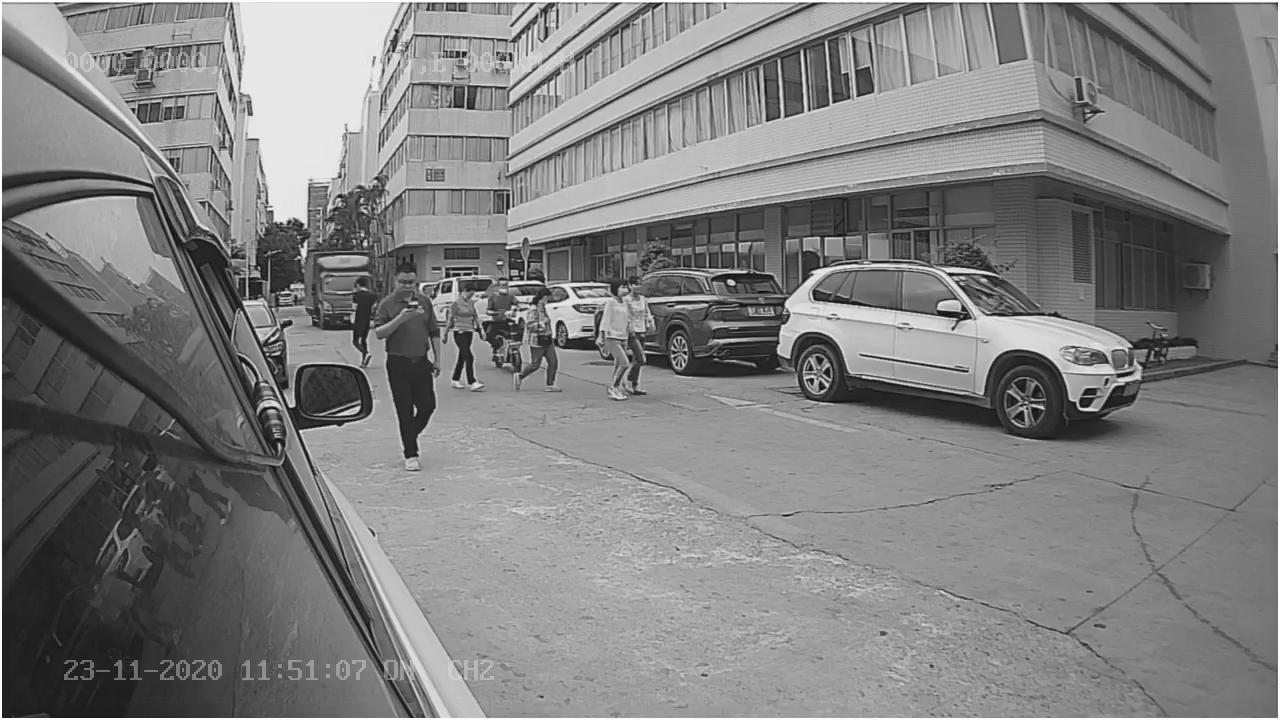person: (373, 266, 445, 472)
